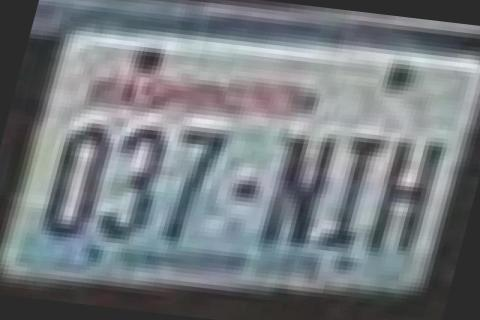LicensePlate: (0, 2, 480, 320)
